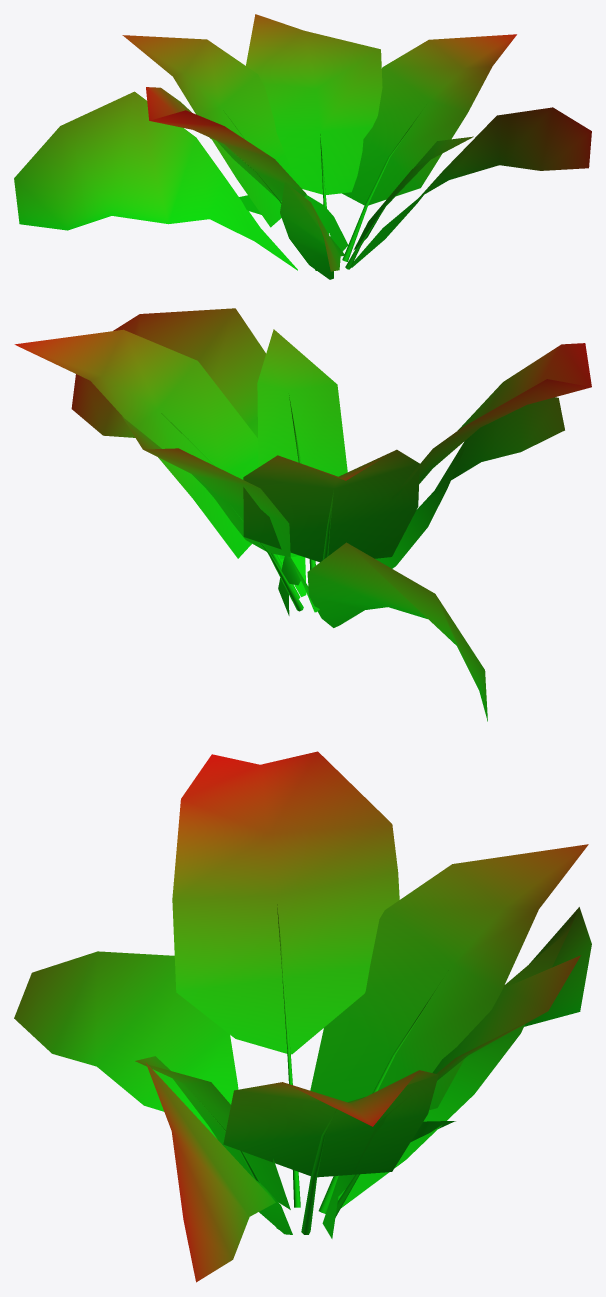
The model's file is Lady Fern_LOD3_Var10_wdvlditia.fbx.
3 renders of one model, top to bottom at view 1: azimuth 30°, elevation 25°; view 2: azimuth 150°, elevation 25°; view 3: azimuth 270°, elevation 25°, orthographic. The views are drawn at different scales.
Parts seen in each view (by area): view 1: _68vs_Var10_LOD3; view 2: _68vs_Var10_LOD3; view 3: _68vs_Var10_LOD3.
Part boxes in pixels (x1,y1,x2,y2): _68vs_Var10_LOD3: (14, 14, 591, 279); _68vs_Var10_LOD3: (14, 308, 591, 721); _68vs_Var10_LOD3: (14, 751, 591, 1282).
Size of the model in its own units: 43.68 by 21.18 by 32.09.
